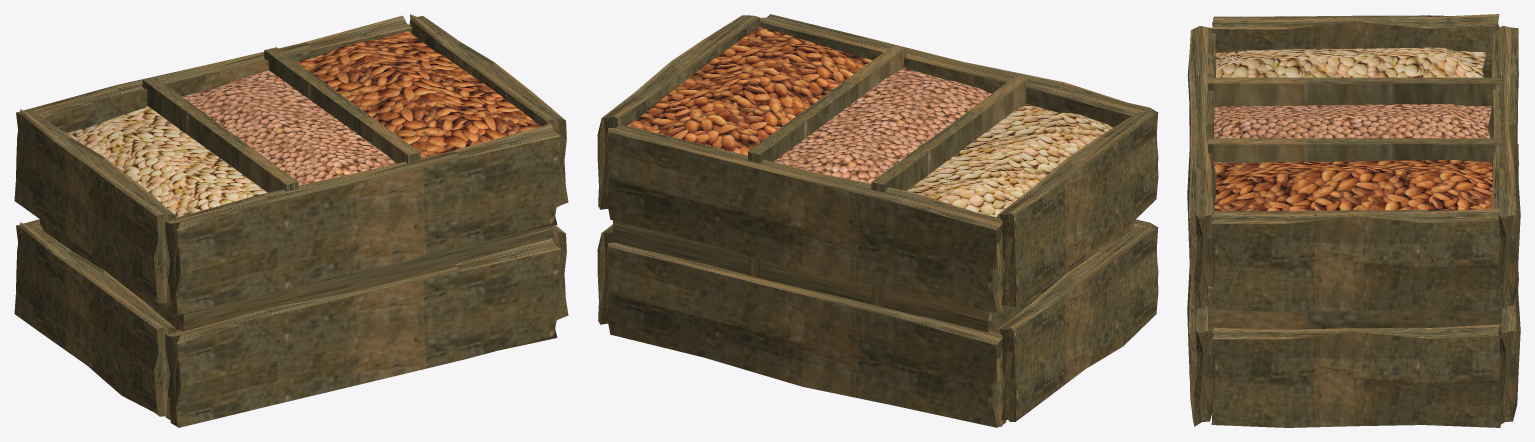
The model's file is crate.glb.
3 views of the same model, side by side, from view 1: azimuth 30°, elevation 25°; view 2: azimuth 150°, elevation 25°; view 3: azimuth 270°, elevation 25° (orthographic). The views are drawn at different scales.
Parts seen in each view (by area): view 1: crate, right, middle, left; view 2: crate, right, middle, left; view 3: crate, right, middle, left.
Boxes of the visible parts, x1,y1,x2,y2 form: crate: [14, 14, 568, 427]; right: [298, 31, 541, 158]; middle: [146, 70, 396, 185]; left: [65, 106, 267, 217]; crate: [597, 14, 1158, 427]; right: [628, 27, 872, 155]; middle: [773, 68, 991, 183]; left: [907, 104, 1112, 216]; crate: [1187, 14, 1520, 427]; right: [1212, 160, 1492, 222]; middle: [1213, 104, 1492, 162]; left: [1215, 47, 1486, 77].
Bounding box in the file's own units: 2.2 × 1.1 × 1.49.
Materials: 4 (4 with a texture image).
